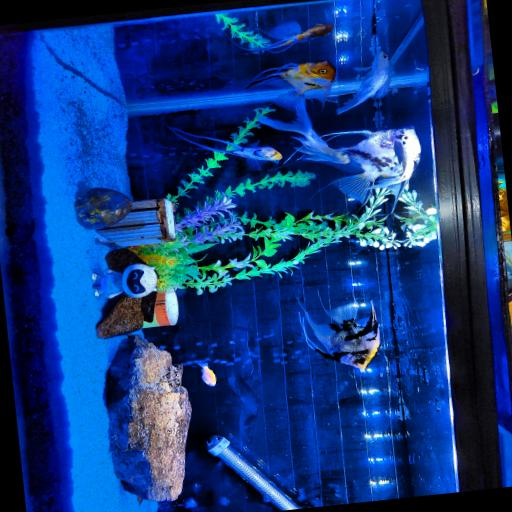Fish: (325, 126, 419, 205), (259, 105, 349, 166), (300, 303, 379, 371), (245, 61, 335, 116), (170, 128, 281, 169), (374, 126, 420, 208), (336, 51, 389, 114), (248, 22, 332, 53), (196, 363, 215, 386)
